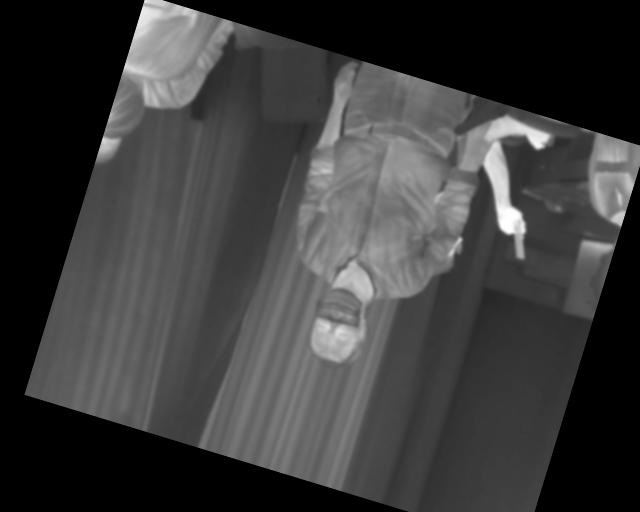face: (299, 281, 379, 375)
